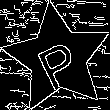P_NW: (30, 27, 85, 89)
